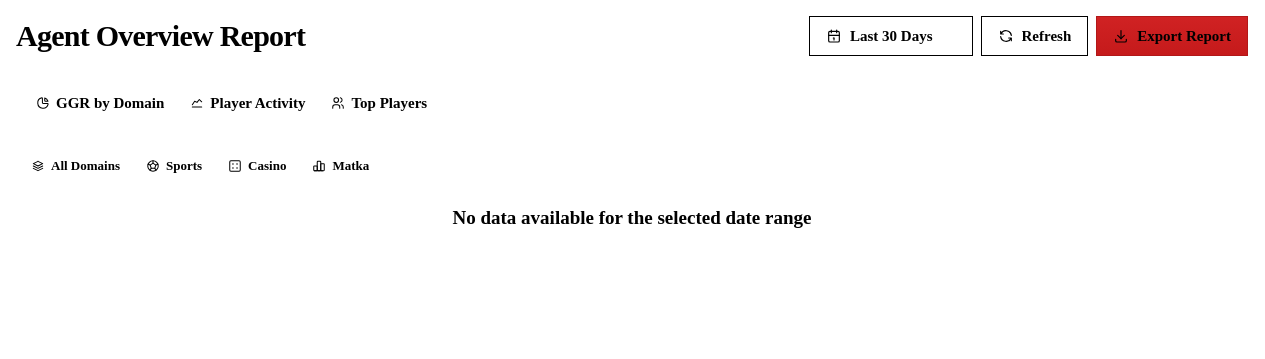
Test: AgentOverviewReport › shows loading, then each view’s legacy empty copy
Expected: the text "No data available for the selected date range" is shown, [452,207,812,228]
Click the tab "Player Activity".
click(248, 103)  # box [178,78,318,128]
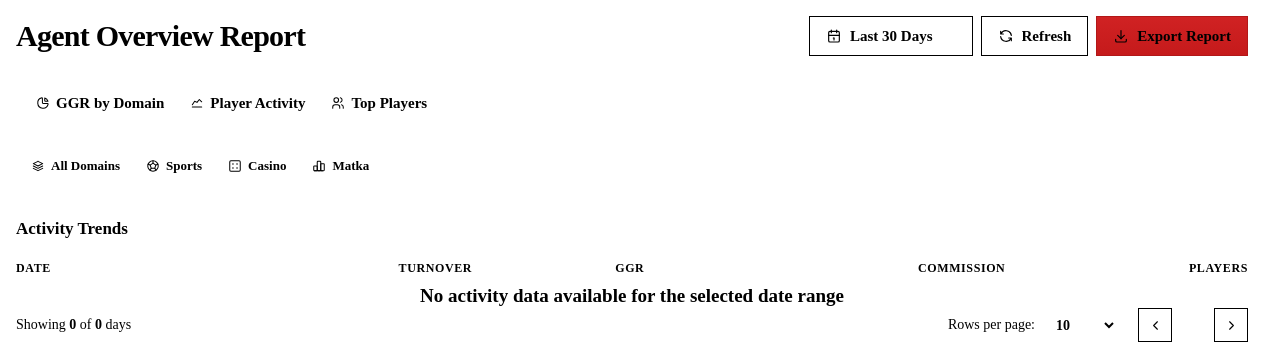
Expected: the text "No activity data available for the selected date range" is shown, [420,285,844,306]
Click the tab "Top Players".
click(379, 103)  # box [320,78,439,128]
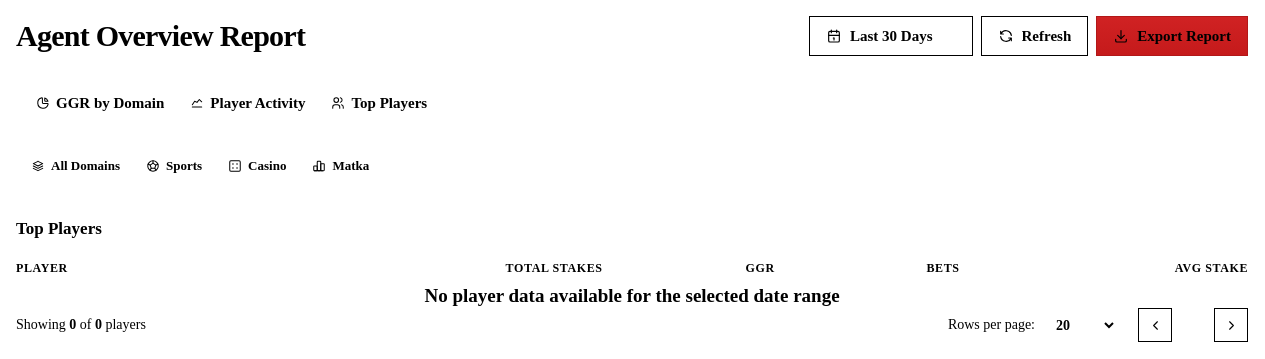
Expected: the text "No player data available for the selected date range" is shown, [424,285,840,306]
